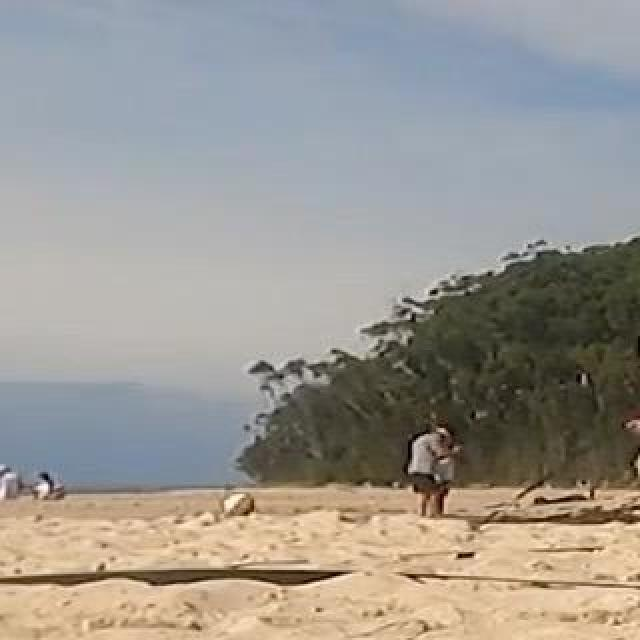volleyball: (220, 489, 254, 523)
